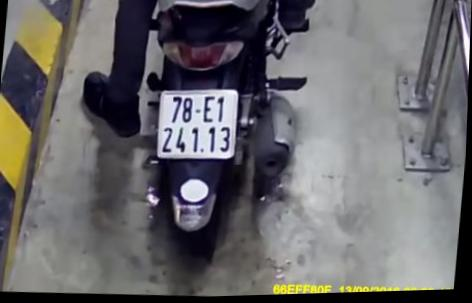LP: (154, 85, 241, 164)
